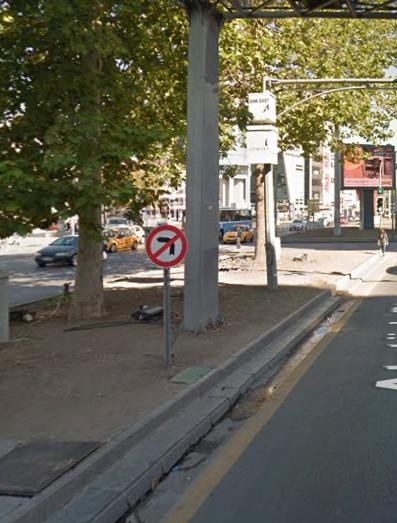leftturnsareforbidden: (143, 220, 190, 269)
